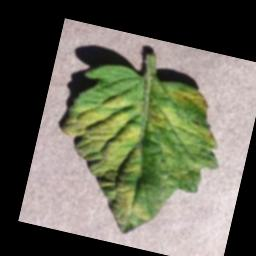Leaf_Mold: (40, 83, 174, 236), (165, 82, 212, 114), (193, 124, 221, 149)
